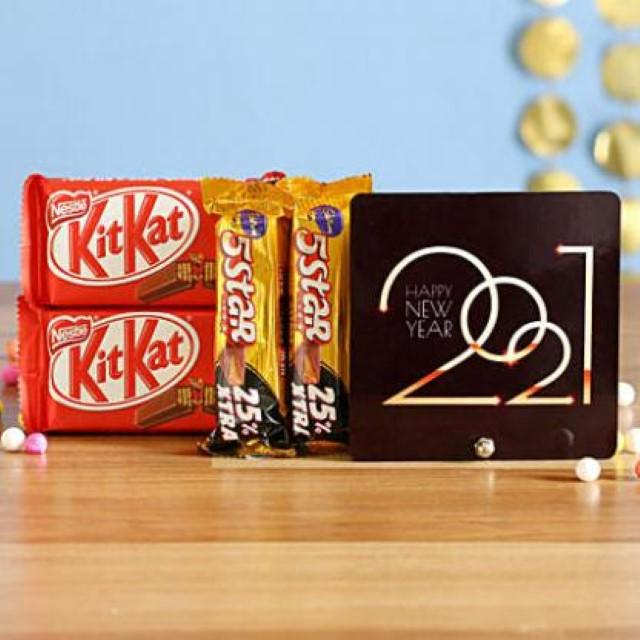kitkat_chocolate: (12, 300, 226, 438), (25, 160, 215, 293)
